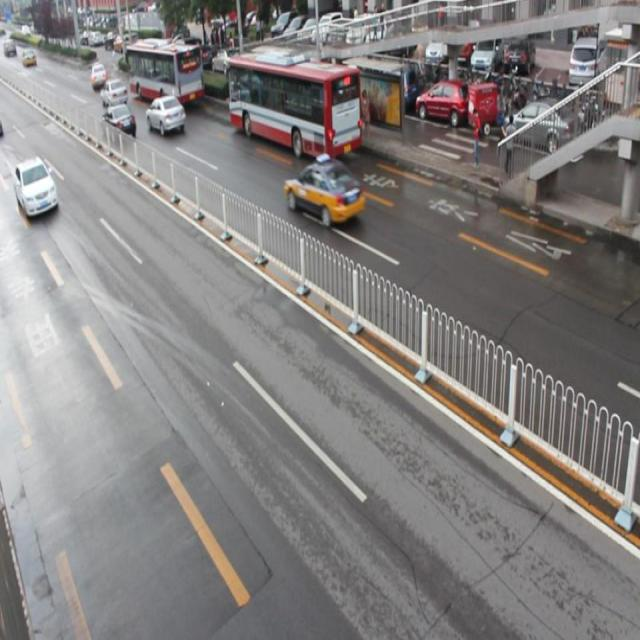car: (283, 157, 364, 226), (13, 154, 59, 218), (146, 94, 185, 136), (101, 102, 136, 140)
van: (228, 53, 361, 157), (126, 41, 203, 101)
